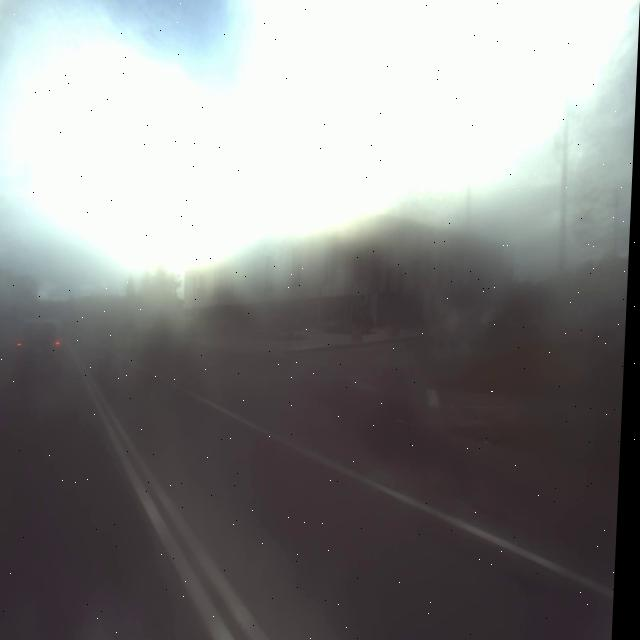car: (1, 310, 73, 392)
